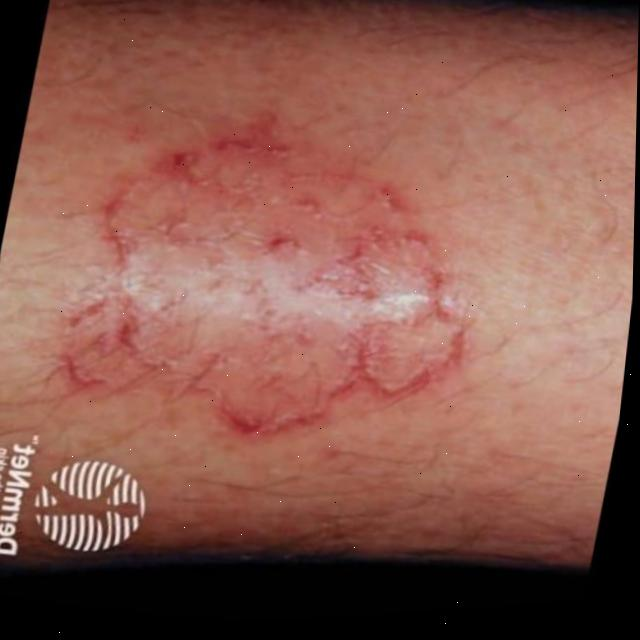Eczema: (97, 149, 460, 422)
